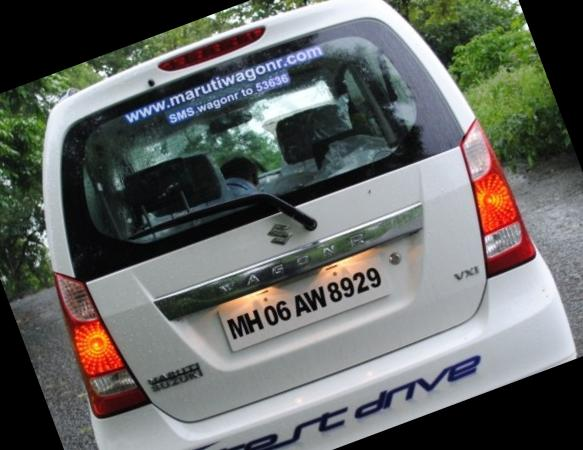plate: (199, 223, 427, 369)
